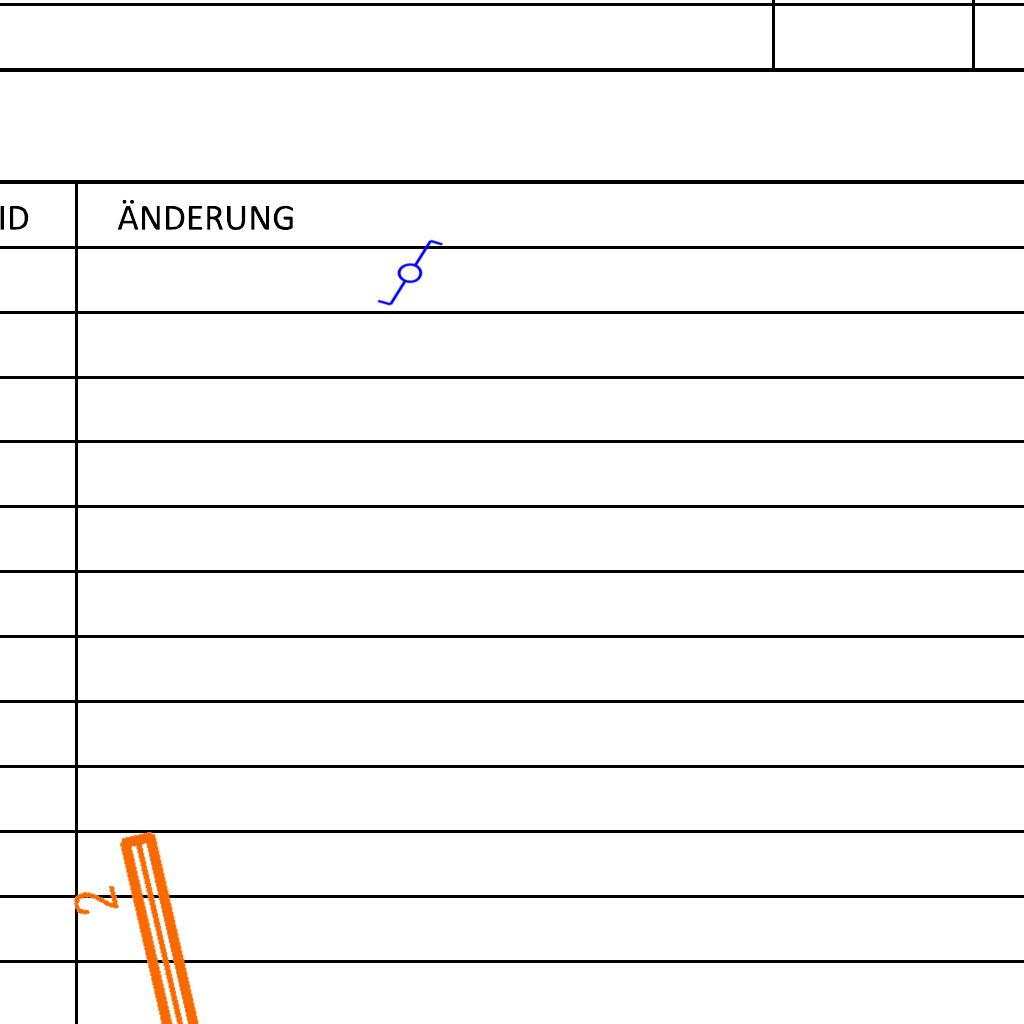Ambulanz_Pendelleuchte_LED: (55, 819, 339, 1024)
Wechselschalter: (367, 236, 445, 308)
